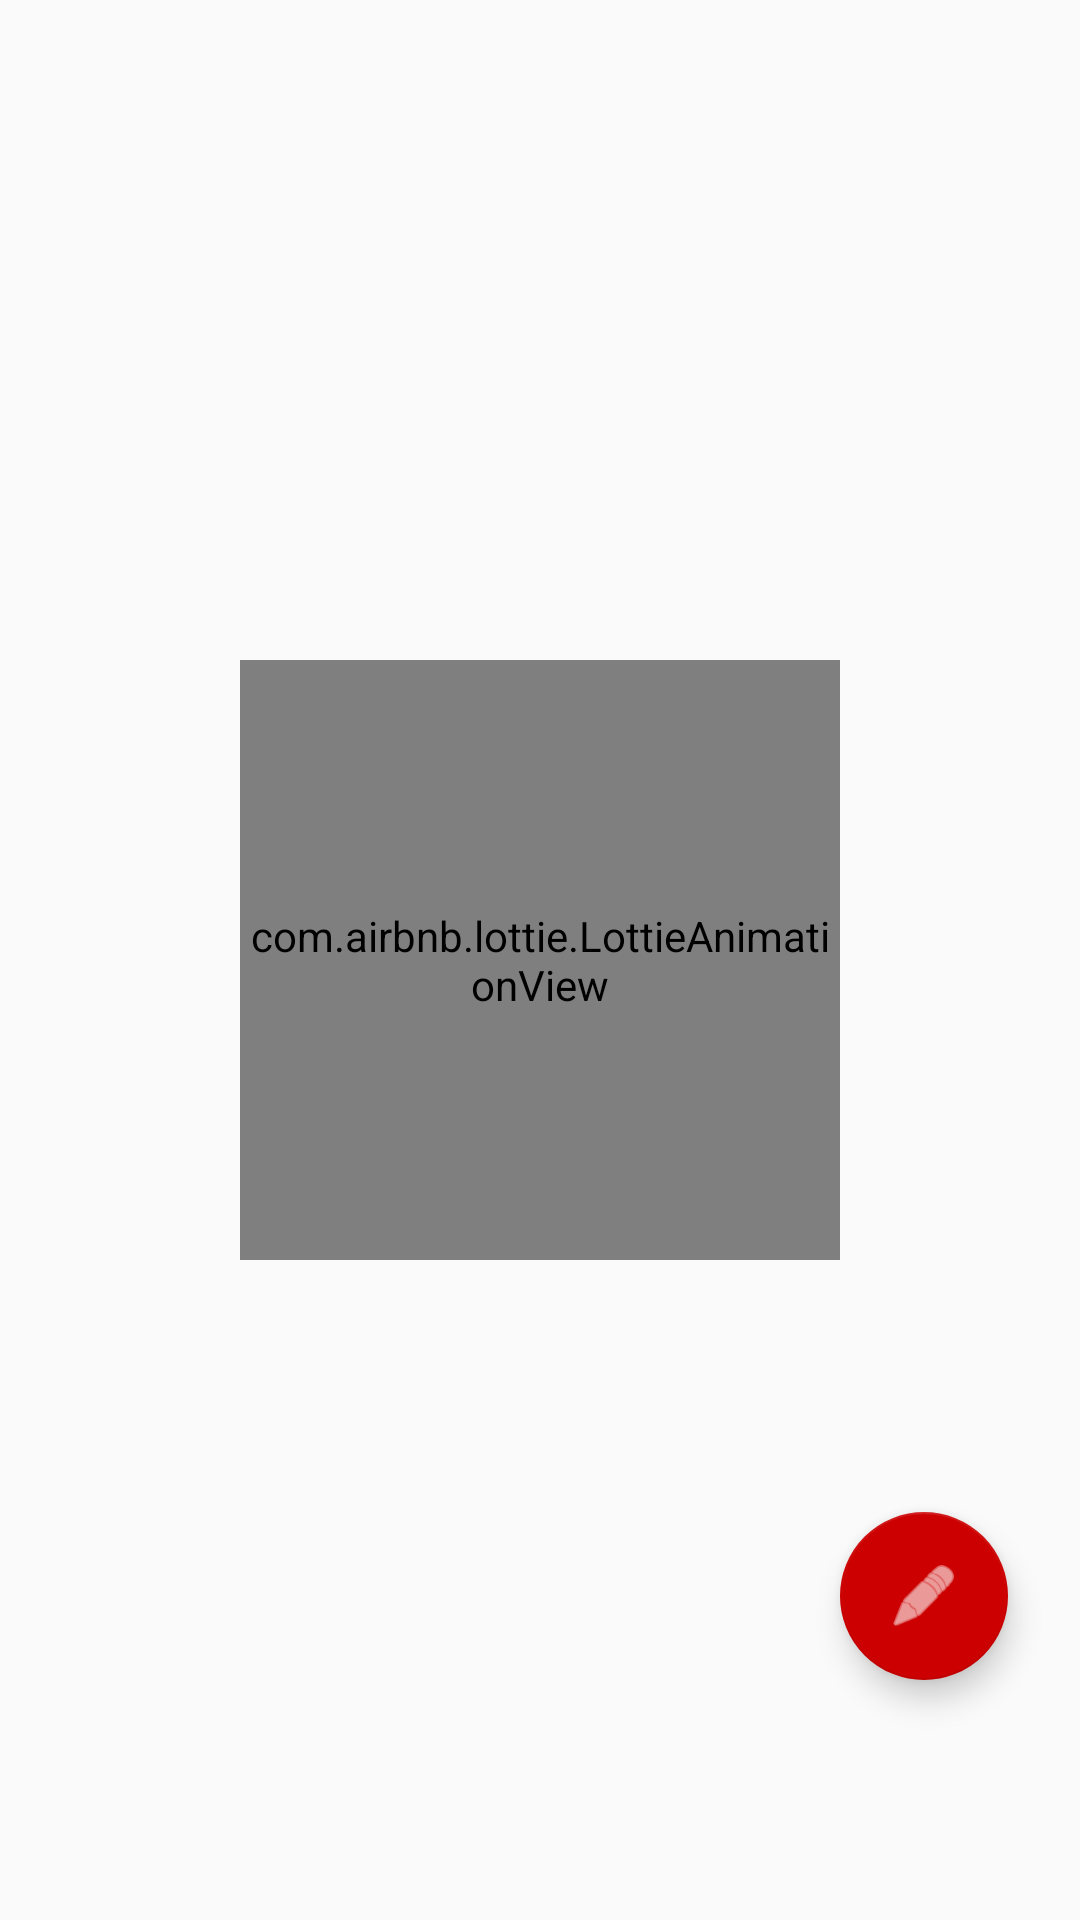

Locate icon controls on the screen. Image size 1080px x 1920px, boxes as (x1, y1, x2, y2).
edit: (840, 1512, 1008, 1680)
